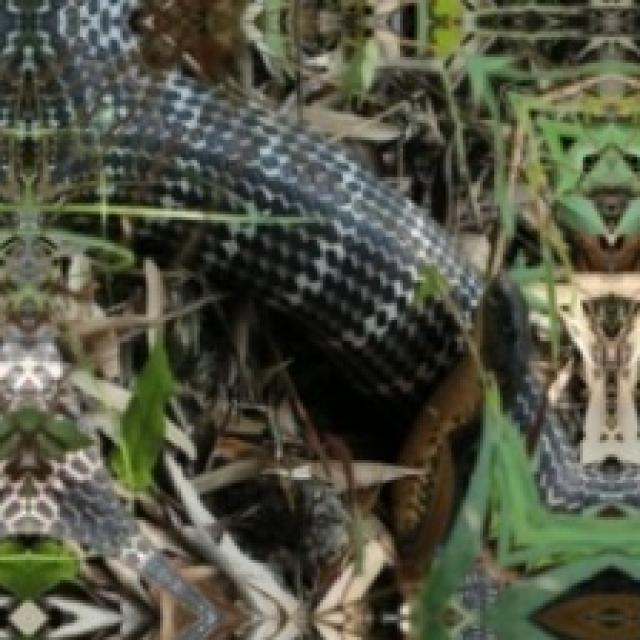king cobra: (0, 0, 526, 637), (311, 0, 517, 231), (520, 89, 554, 151)
